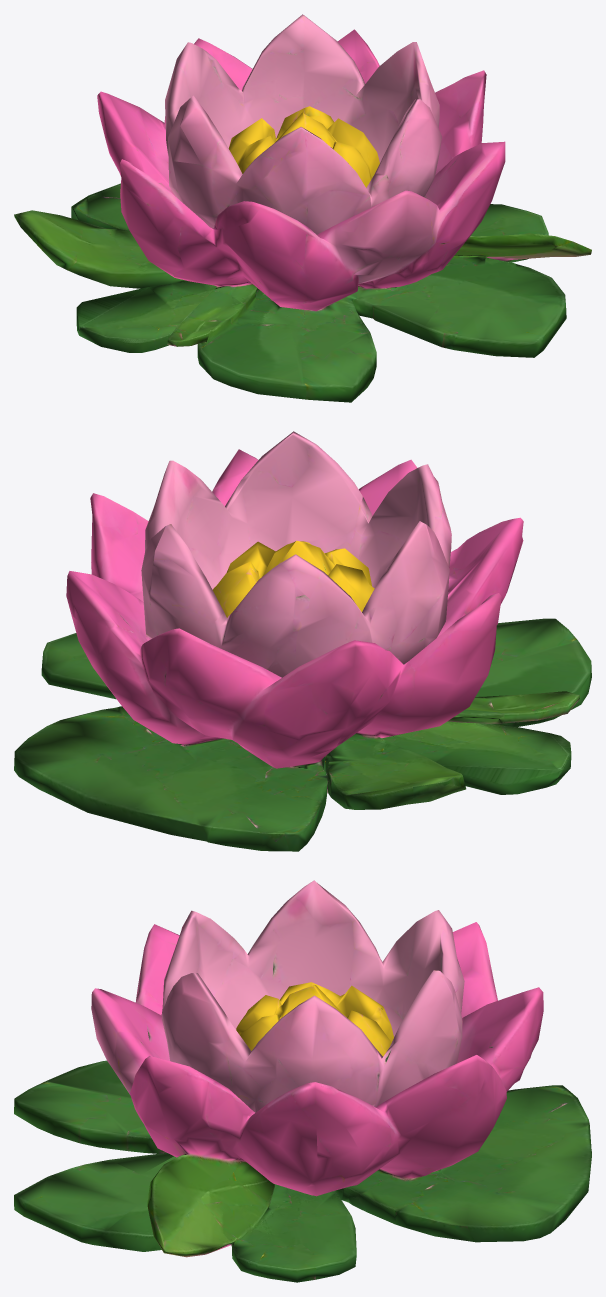
Rendered from froggy-lotus.glb.
3 renders of one model, top to bottom at view 1: azimuth 30°, elevation 25°; view 2: azimuth 150°, elevation 25°; view 3: azimuth 270°, elevation 25°, orthographic. The views are drawn at different scales.
Size of the model in its own units: 1.87 by 0.818 by 1.9.
1 material, 1 textured.
